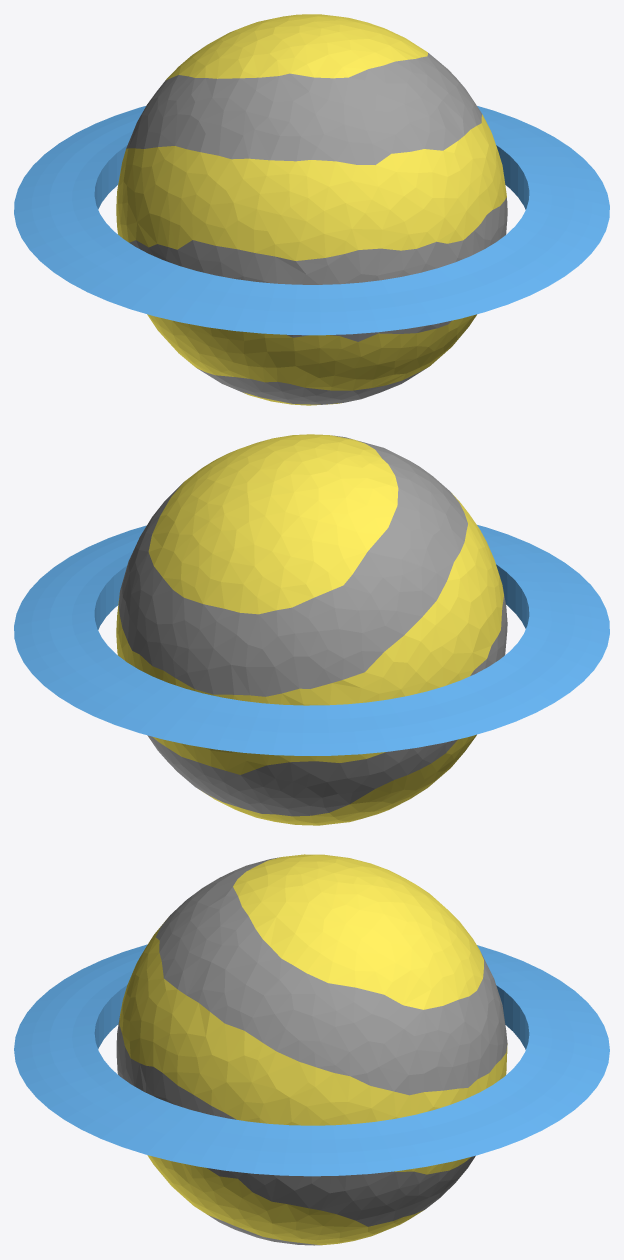
The model's file is Planet_14.glb.
The picture shows the model from 3 angles, top to bottom: view 1: azimuth 30°, elevation 25°; view 2: azimuth 150°, elevation 25°; view 3: azimuth 270°, elevation 25°; orthographic projection.
Parts seen in each view (by area): view 1: Planet_14; view 2: Planet_14; view 3: Planet_14.
Boxes of the visible parts, left/top/right/bottom form: Planet_14: left=14, top=14, right=609, bottom=405; Planet_14: left=14, top=434, right=609, bottom=825; Planet_14: left=14, top=854, right=609, bottom=1245.
Bounding box in the file's own units: 29.07 × 19.06 × 29.07.
Materials: 1 (1 with a texture image).
